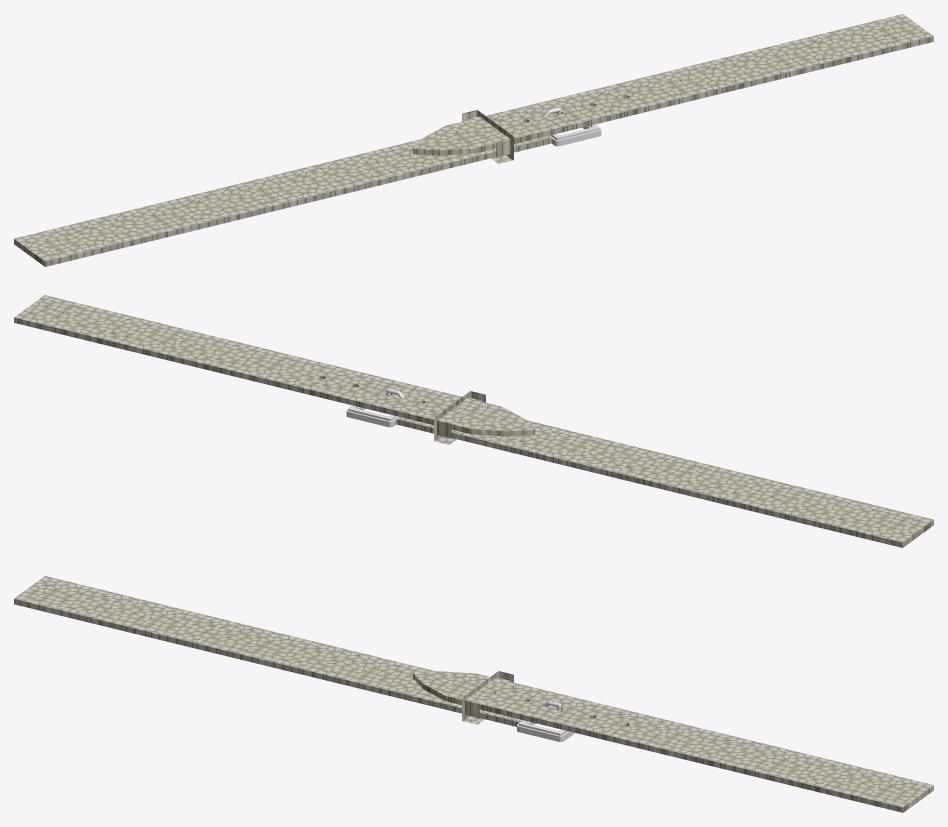
The model's file is veto-belt-white.glb.
The picture shows the model from 3 angles, top to bottom: view 1: azimuth 30°, elevation 25°; view 2: azimuth 150°, elevation 25°; view 3: azimuth 330°, elevation 25°; orthographic projection.
Parts seen in each view (by area): view 1: strap_right, strap_left, keeper, buckle_frame; view 2: strap_right, strap_left, keeper, buckle_frame; view 3: strap_right, strap_left, keeper, buckle_frame.
Part boxes in pixels (<box>): strap_right: <box>413,14,933,155</box>; strap_left: <box>14,136,551,266</box>; keeper: <box>462,110,513,163</box>; buckle_frame: <box>549,124,601,146</box>; strap_right: <box>14,295,534,436</box>; strap_left: <box>396,417,933,547</box>; keeper: <box>434,391,485,444</box>; buckle_frame: <box>346,405,398,427</box>; strap_right: <box>413,671,933,812</box>; strap_left: <box>14,576,522,726</box>; keeper: <box>462,671,513,724</box>; buckle_frame: <box>517,720,574,741</box>.
Size of the model in its own units: 66.8 by 1.74 by 5.3.
2 materials, 1 textured.
